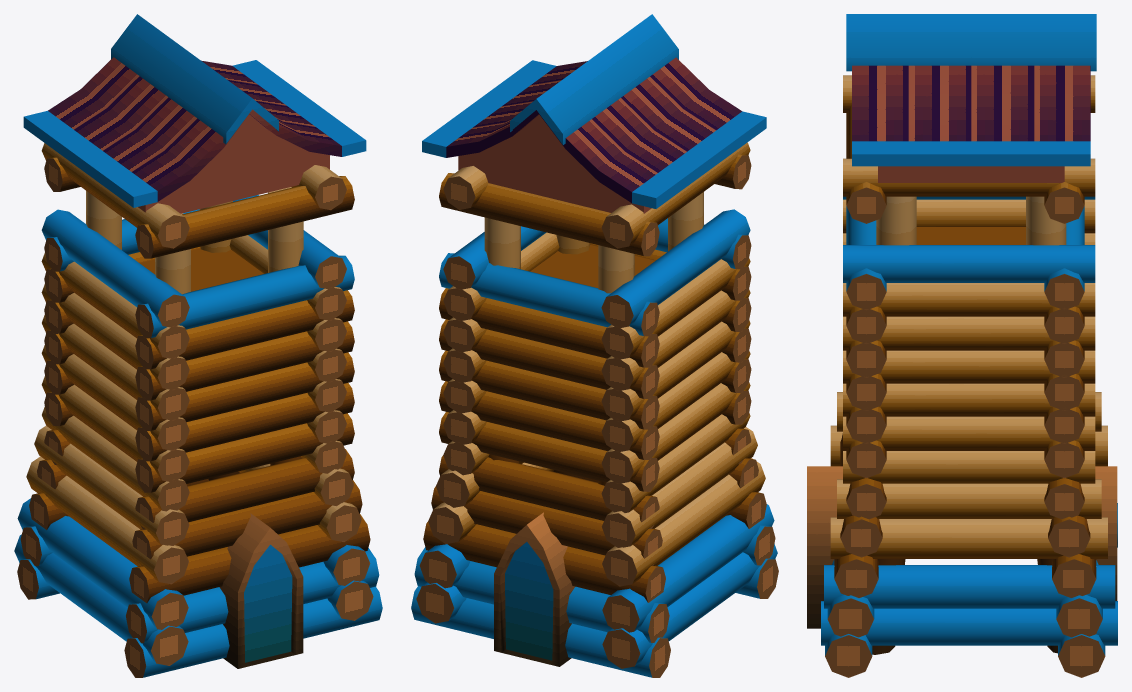
File: tower_lvl2.fbx
3 views of the same model, side by side, from view 1: azimuth 30°, elevation 25°; view 2: azimuth 150°, elevation 25°; view 3: azimuth 270°, elevation 25° (orthographic). The views are drawn at different scales.
Visible parts, largest first — view 1: tower_lvl2.001; view 2: tower_lvl2.001; view 3: tower_lvl2.001.
Part boxes in pixels (<box>): tower_lvl2.001: <box>14,14,382,677</box>; tower_lvl2.001: <box>411,14,778,677</box>; tower_lvl2.001: <box>807,14,1117,677</box>.
Size of the model in its own units: 0.2356 by 0.525 by 0.2465.
